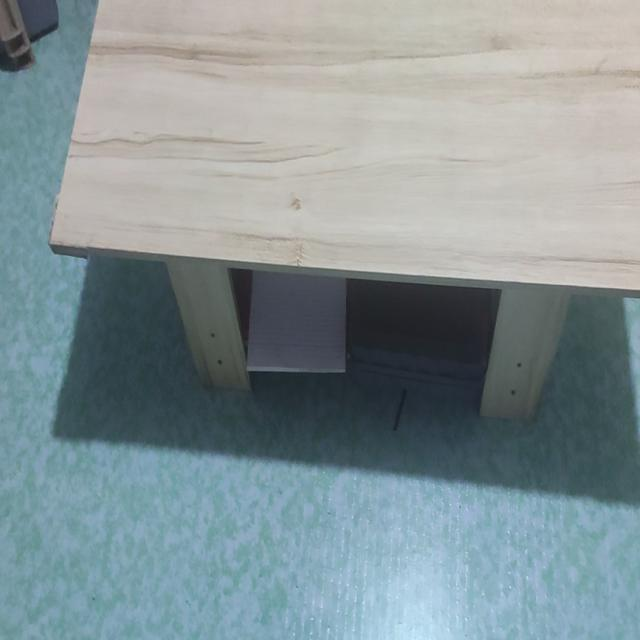table: (45, 0, 640, 441)
